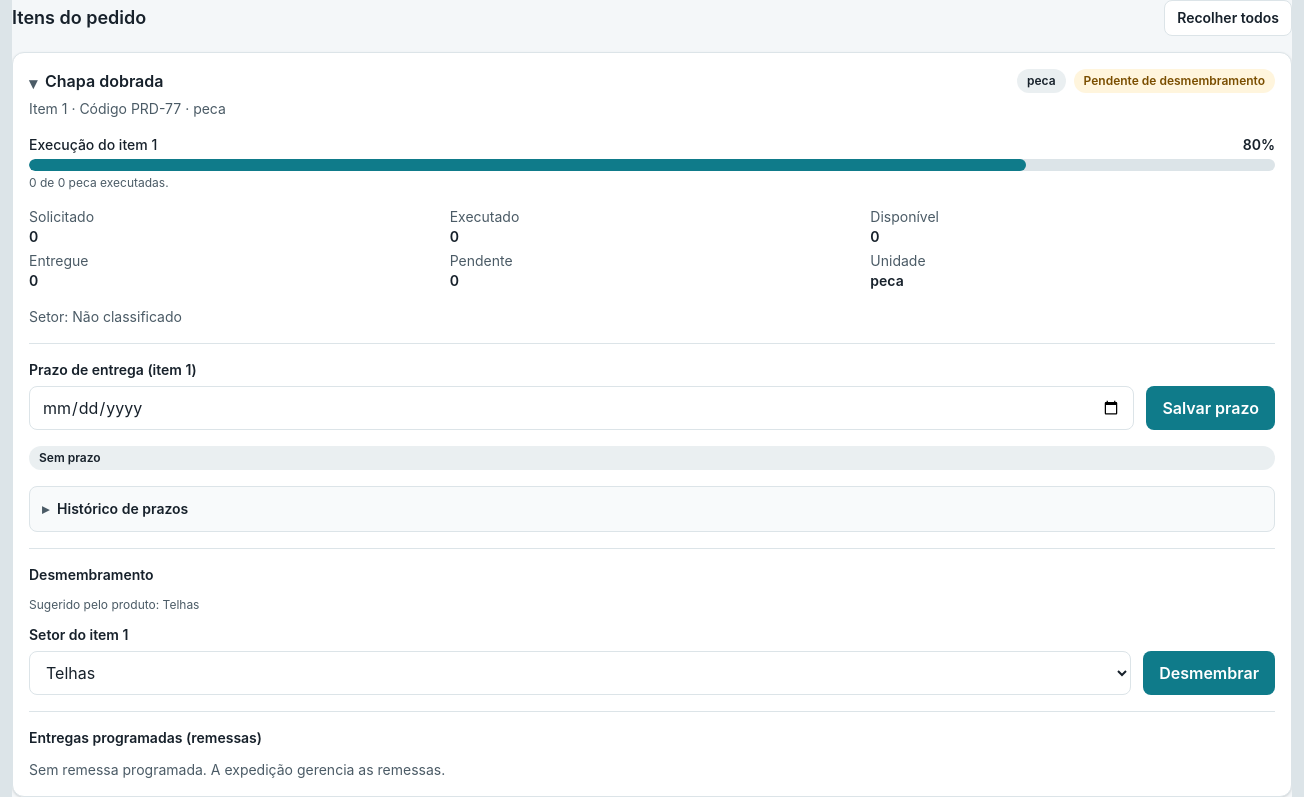
PedidoGerentePage › aceita o setor sugerido sem alterar o seletor (LAC-04)
(page scrolled)
expect the dropdown labelled "Setor do item 1" shows "Telhas": met, box [29,651,1131,695]
Click the button with aria-label "Classificar item 1".
click(1209, 673)  # box [1143,651,1275,695]
(page scrolled)
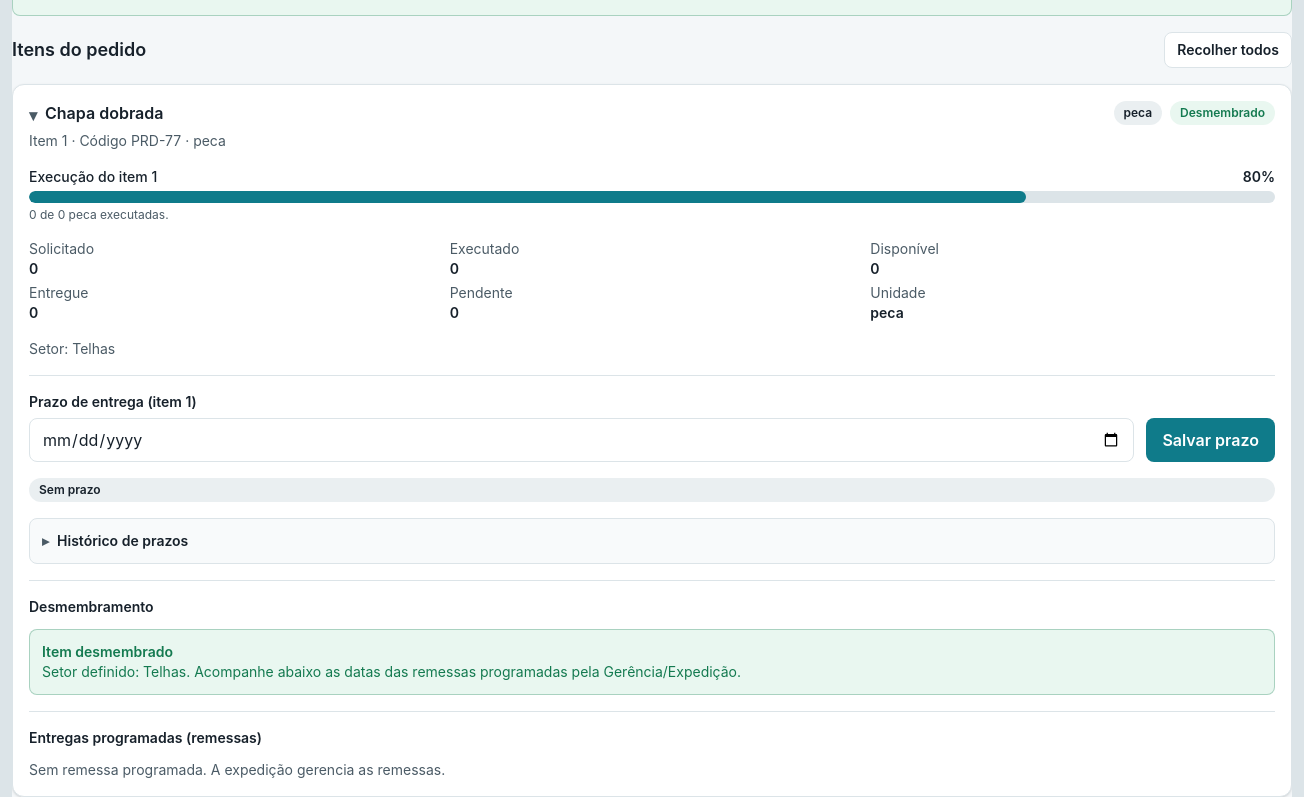
expect the text "Item desmembrado" is shown: met, box [42,643,173,660]
